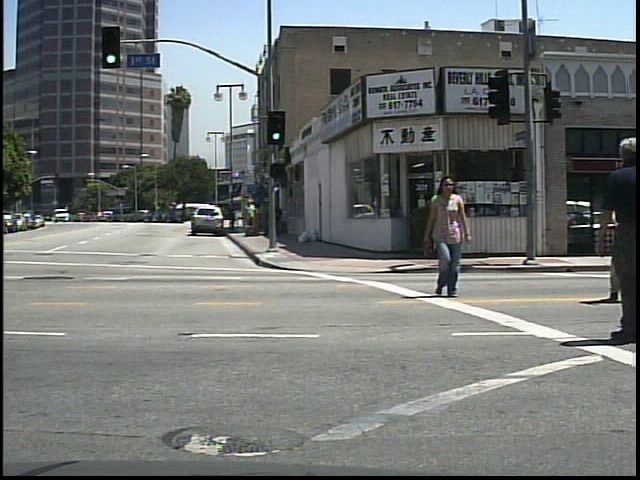person: (422, 172, 473, 300)
